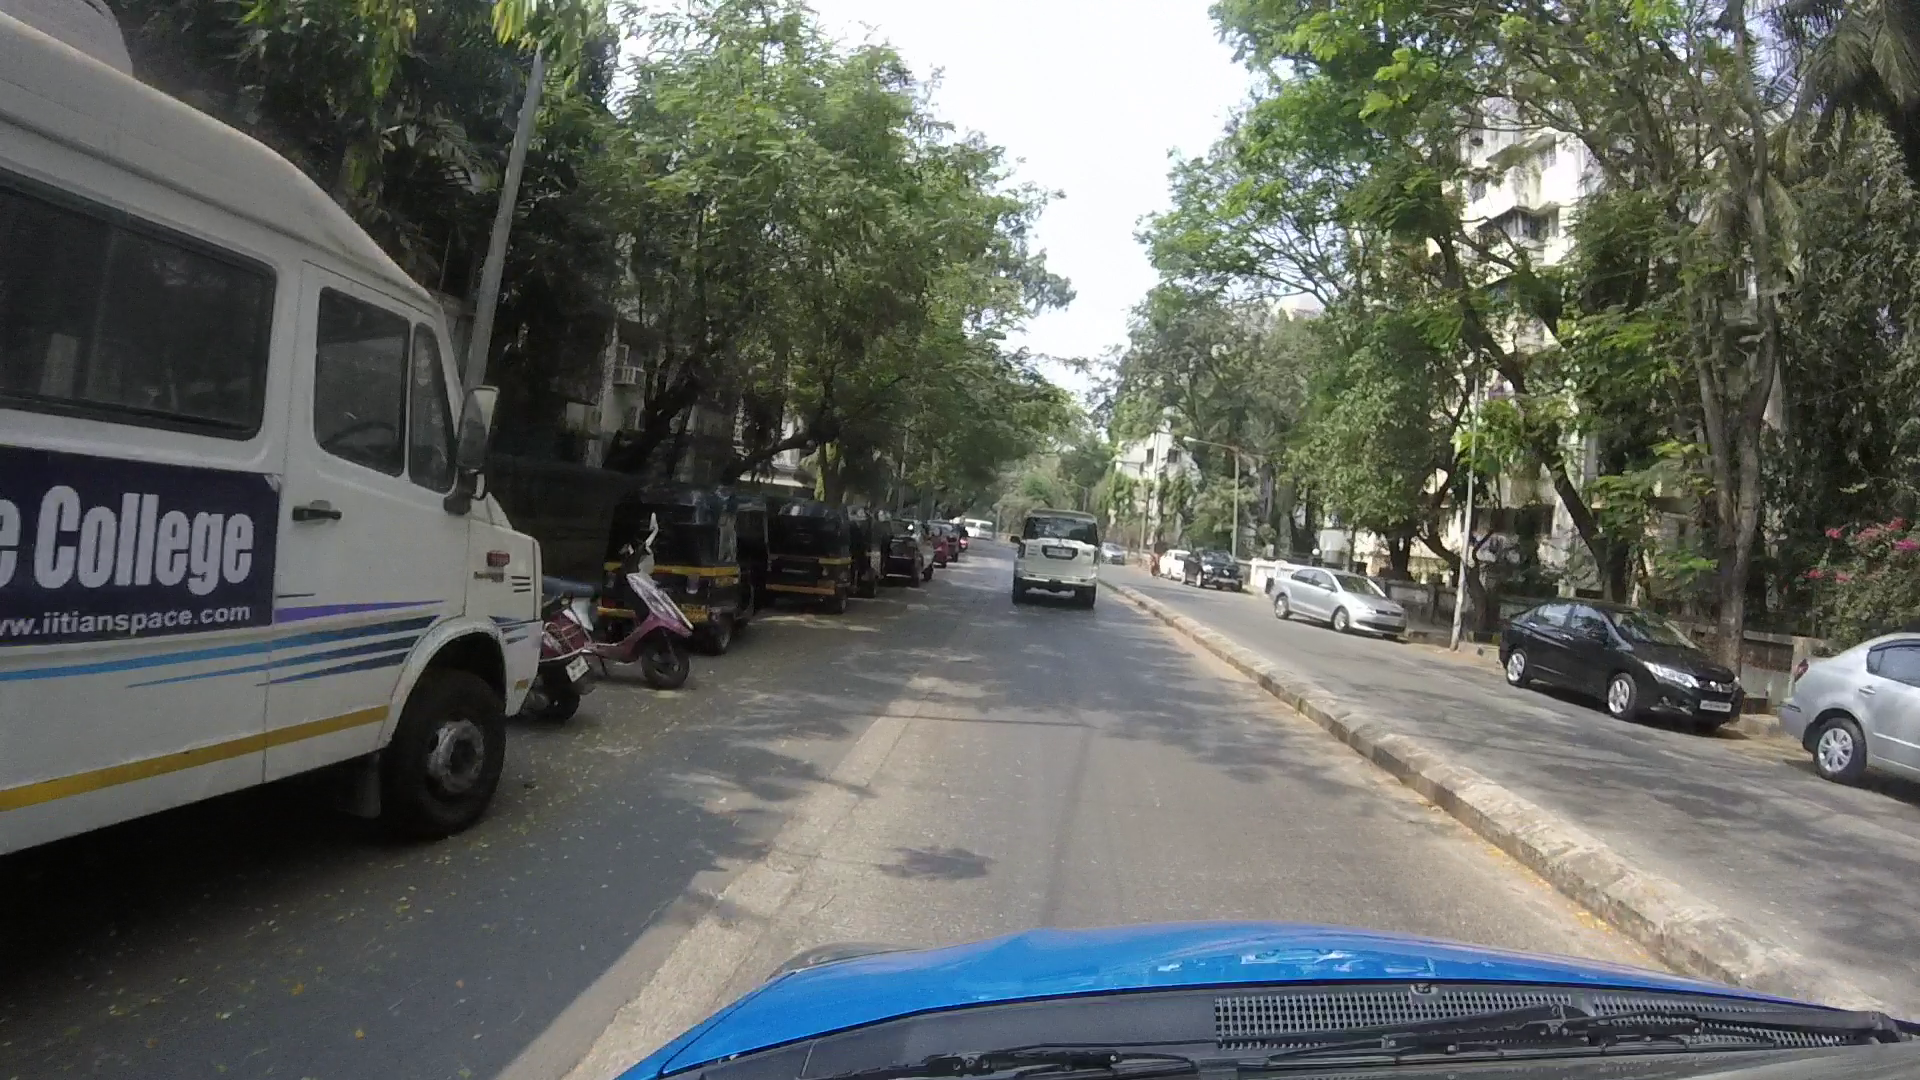bike/scooter: (583, 531, 704, 687), (531, 564, 624, 735)
bus: (1, 16, 545, 882)
car: (1494, 583, 1754, 756), (1778, 622, 1920, 789), (1261, 549, 1414, 658), (1010, 489, 1112, 622)
rickshaw: (638, 467, 774, 641), (779, 484, 858, 622)
